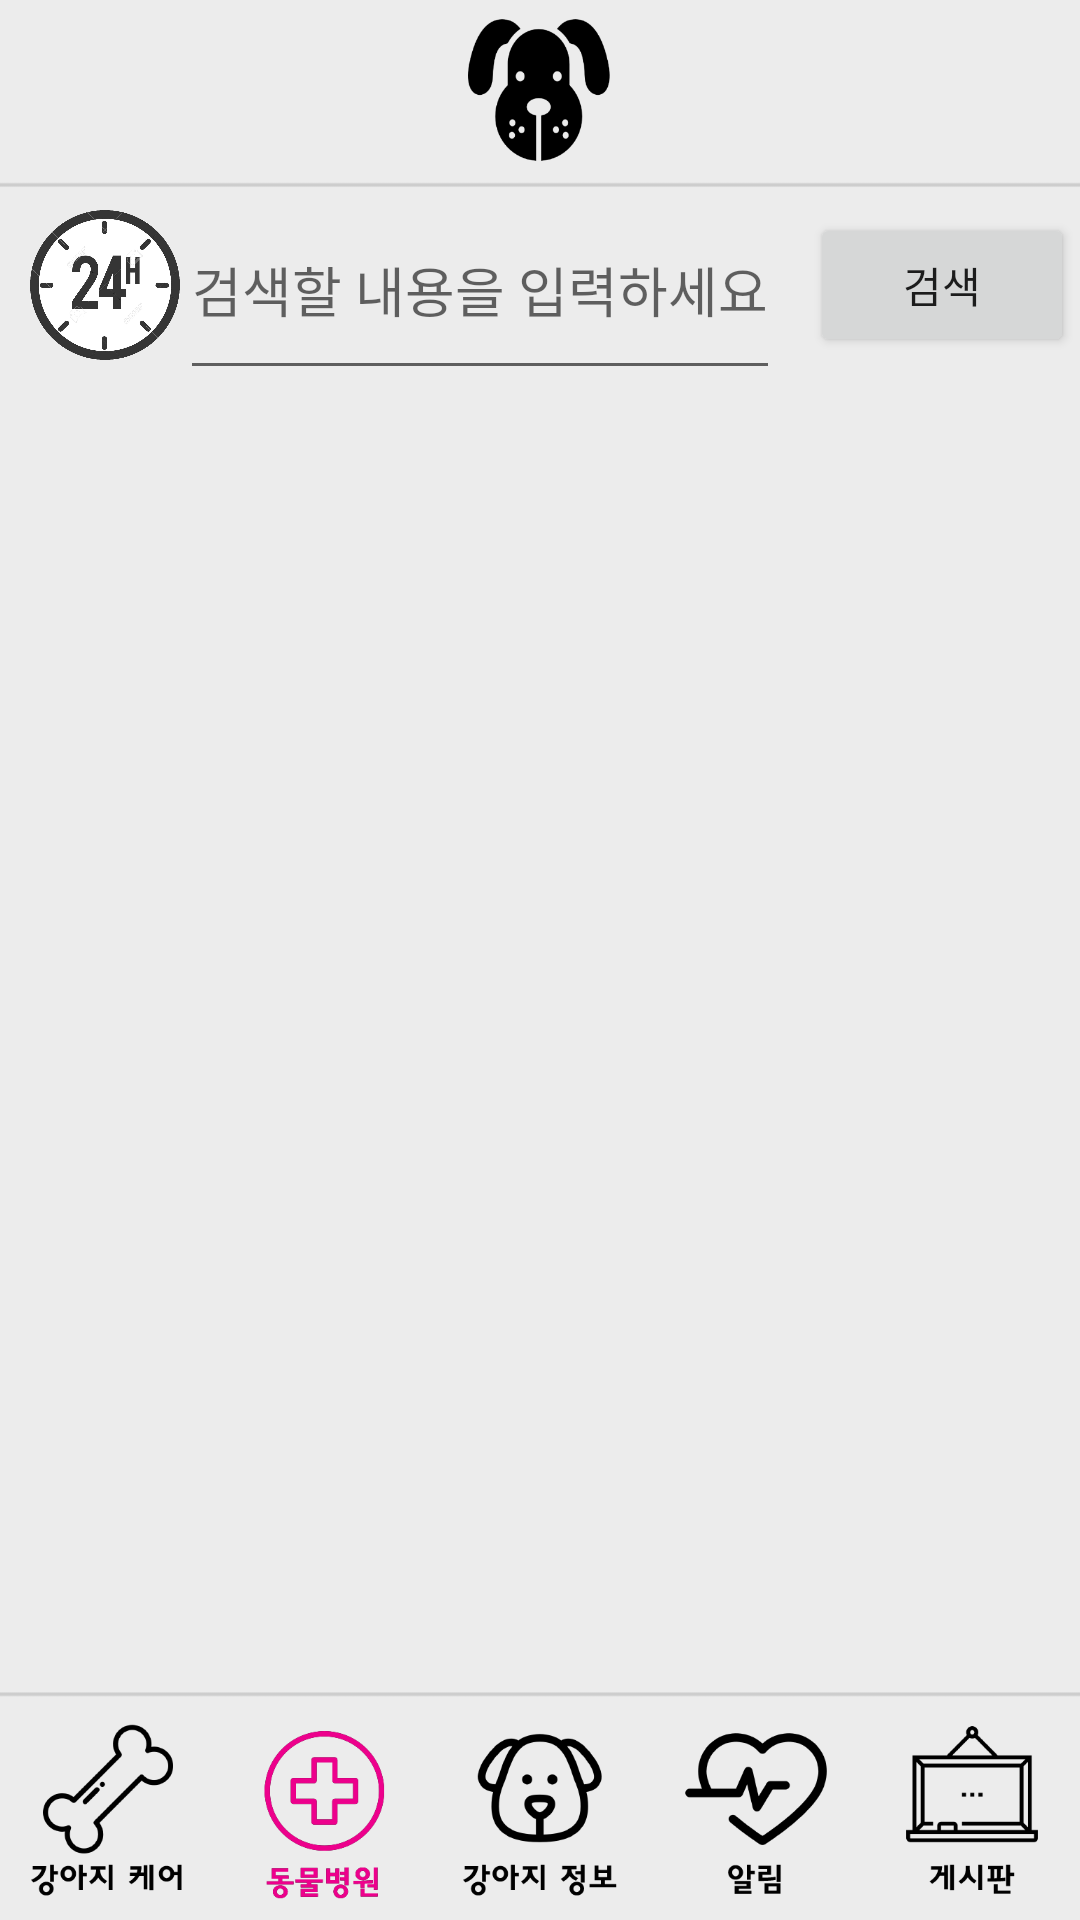

Named icons in this screenshot (1080px×1920px) and their bounding boxes, (x1, y1, x2, y2):
dogdogface: (468, 19, 610, 161)
hour: (30, 210, 180, 360)
